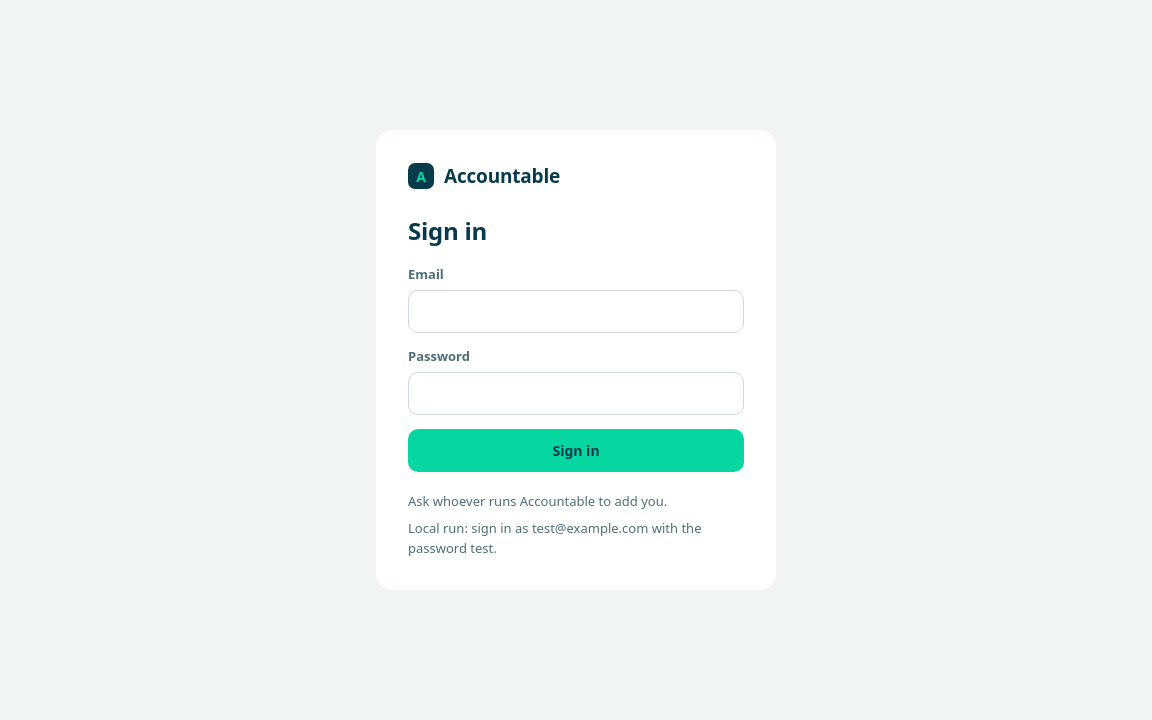
Test: signed out at a deal's address, signing in shows that deal
Expected: the heading "Sign in" is shown, [408,214,487,247]
In the field labelled "Email": (576, 311) [408,290,744,333], type "test@example.com"
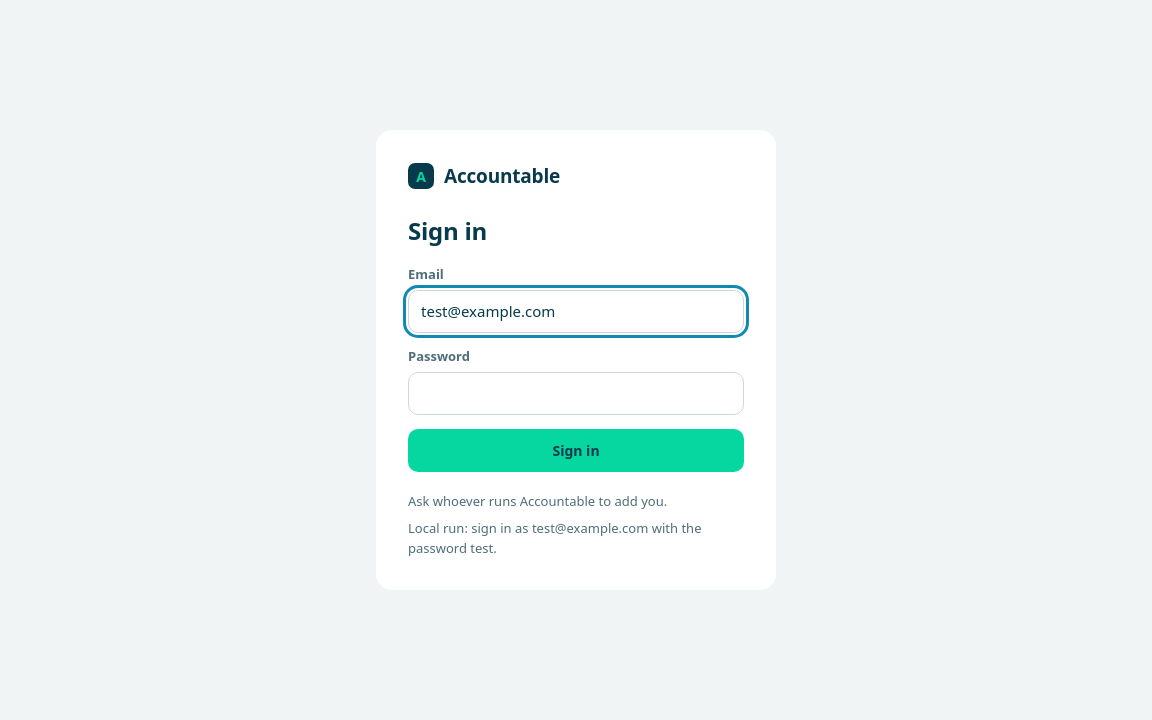
In the password field labelled "Password": (576, 393) [408,372,744,415], type "test"
Then press Enter
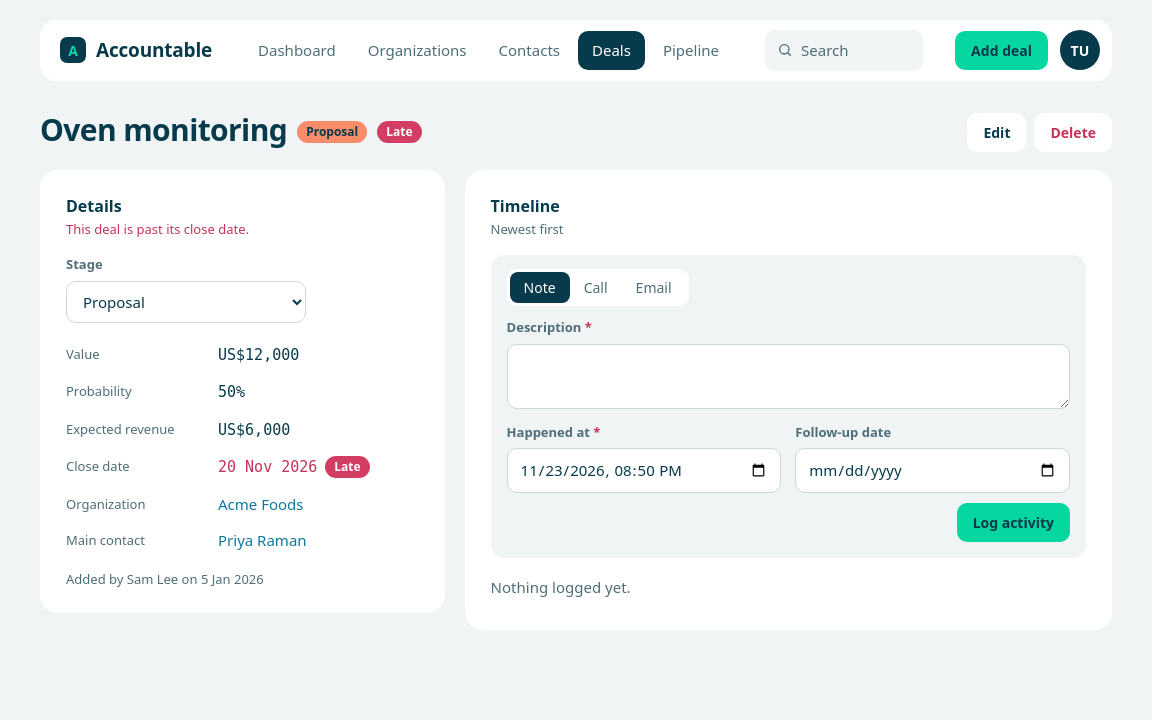
Now the heading "Oven monitoring" is shown, box [40,112,287,146]
